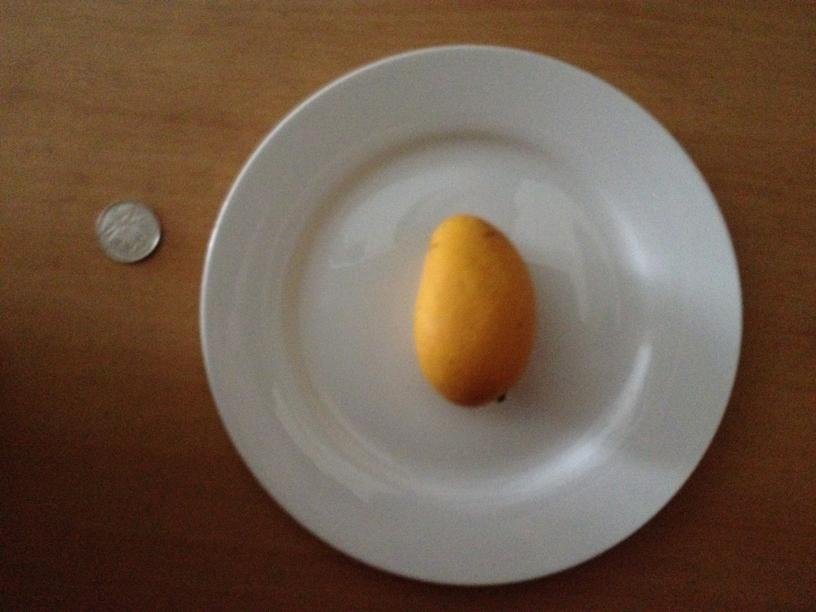coin: (96, 199, 162, 262)
mango: (411, 216, 534, 408)
